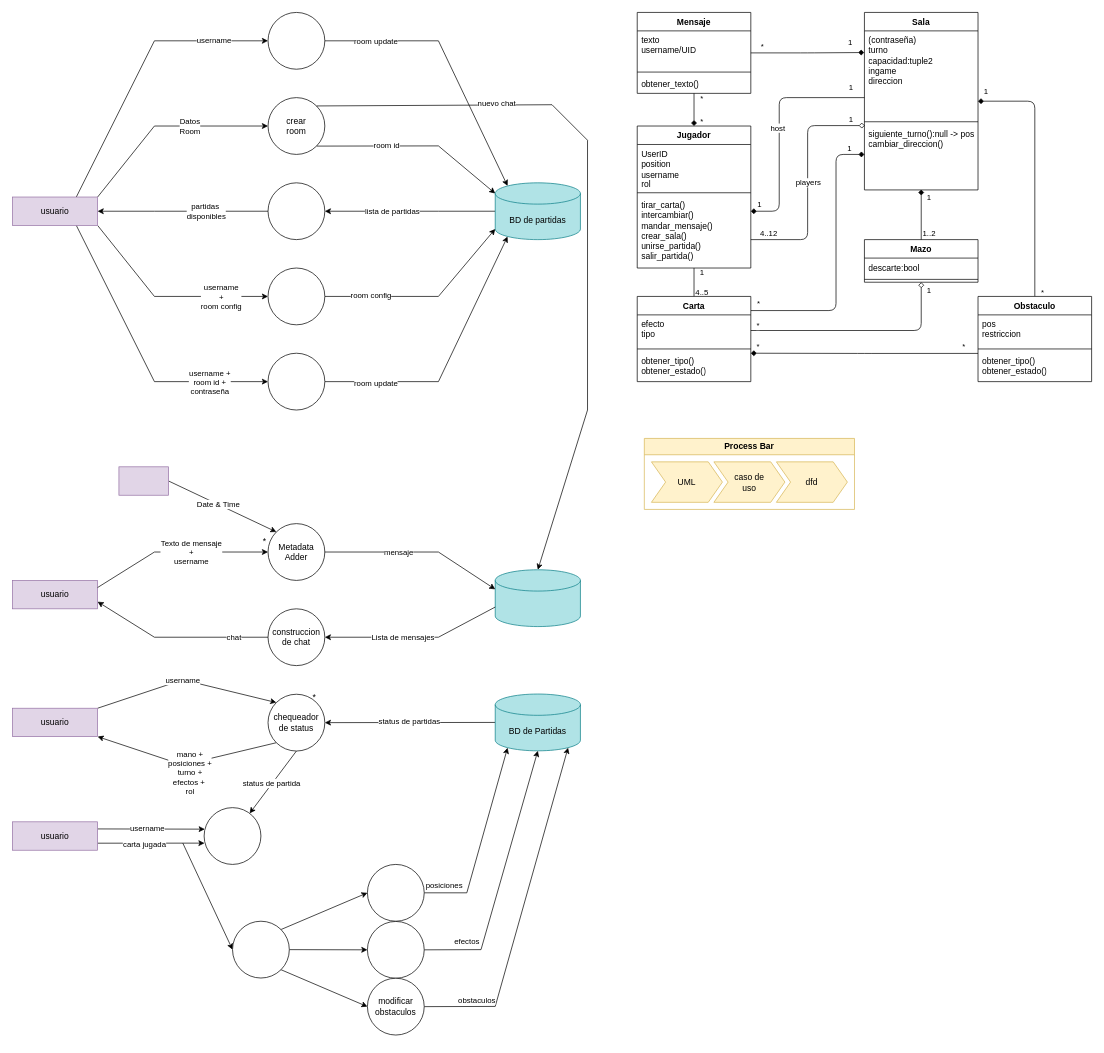
Image size: 1104x1053. Some labels were removed from this diagram. Each missing label, with the centre of its shape:
BD de Chats: the point at 537,598
calendario: the point at 143,480
flitro de rooms: the point at 296,211
iniciar partida: the point at 296,296
interpretar carta: the point at 260,949
modificar efectos: the point at 395,949
modificar posiciones: the point at 395,892
salir del room: the point at 296,40
unirse a partida: the point at 296,381
verificar efecto: the point at 232,835
